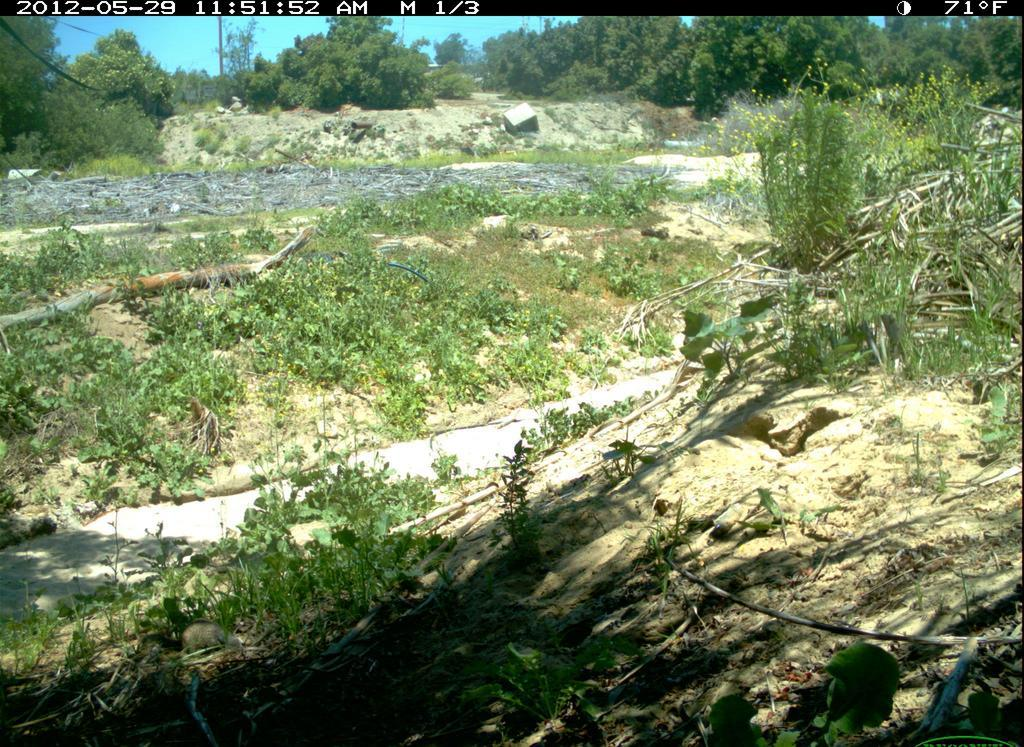squirrel: (168, 612, 267, 658)
